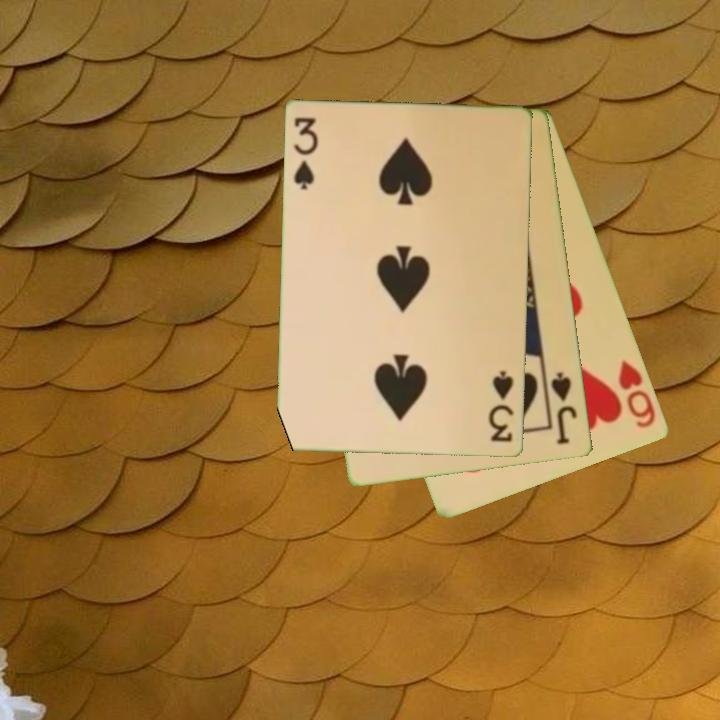3s: (290, 114, 322, 193), (486, 368, 517, 445)
6h: (615, 356, 659, 431)
Js: (548, 368, 580, 448)
